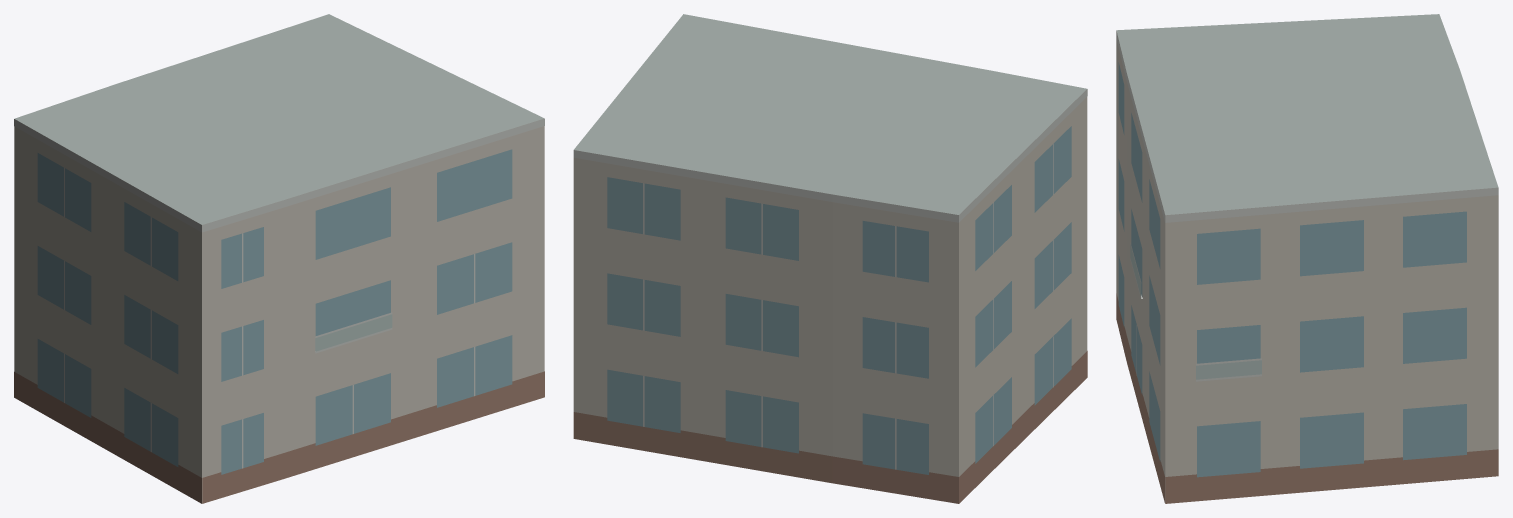
The model's file is survey-upis-33014834.glb.
3 renders of one model, left to right at view 1: azimuth 30°, elevation 25°; view 2: azimuth 150°, elevation 25°; view 3: azimuth 270°, elevation 25°, orthographic. The views are drawn at different scales.
Parts seen in each view (by area): view 1: survey-upis-33014834.tmp; view 2: survey-upis-33014834.tmp; view 3: survey-upis-33014834.tmp.
Boxes of the visible parts, x1,y1,x2,y2 form: survey-upis-33014834.tmp: (14, 14, 544, 503); survey-upis-33014834.tmp: (573, 14, 1087, 503); survey-upis-33014834.tmp: (1116, 14, 1498, 503).
Size of the model in its own units: 13.69 by 9.15 by 10.99.
